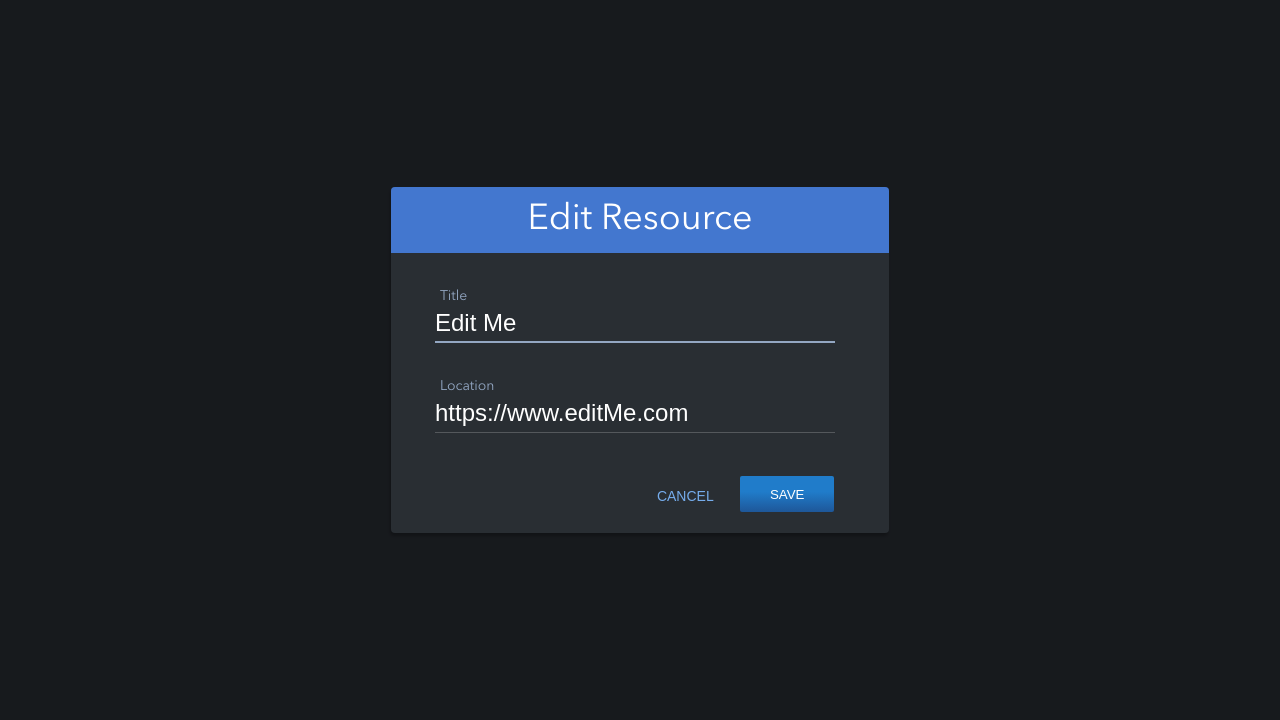
Test case: EditResourcePopup › should stop you from inputting an empty title and url
This screenshot has width=1280, height=720.
Step 1. Clear the field below "Title" → (635, 326), box [435, 308, 835, 343]
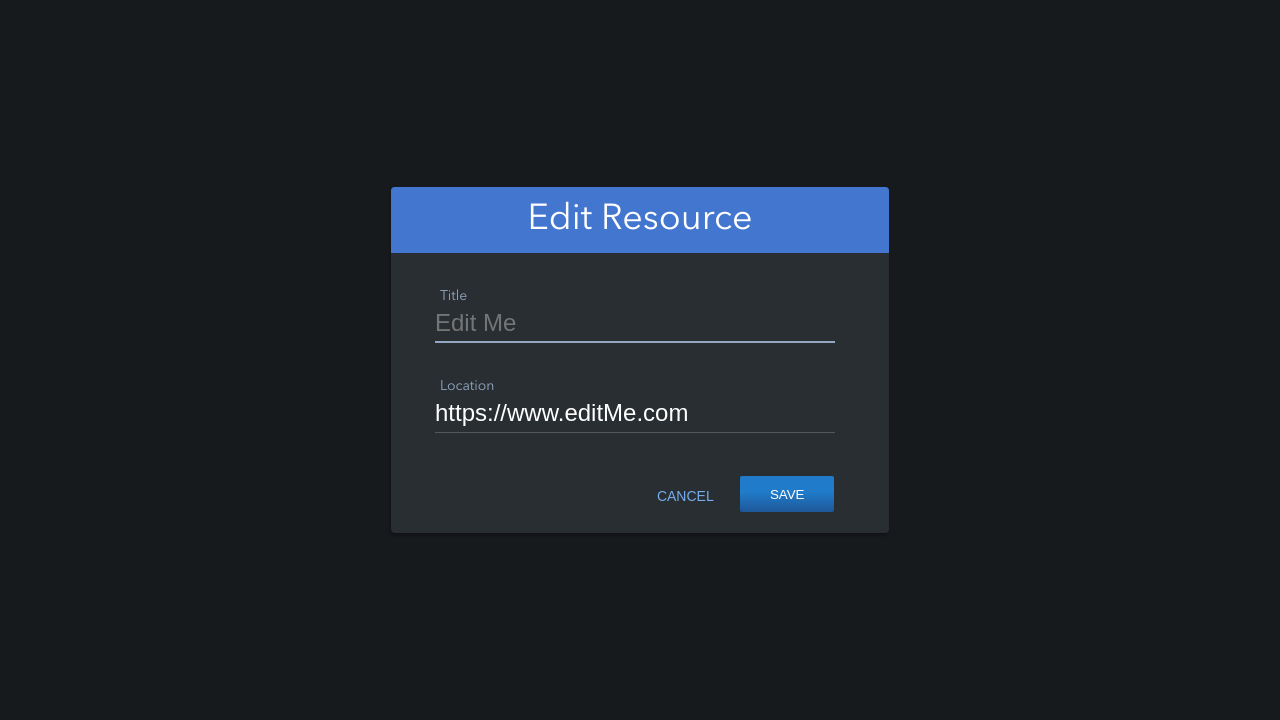
Step 2. Clear the 2nd field → (635, 416), box [435, 398, 835, 433]
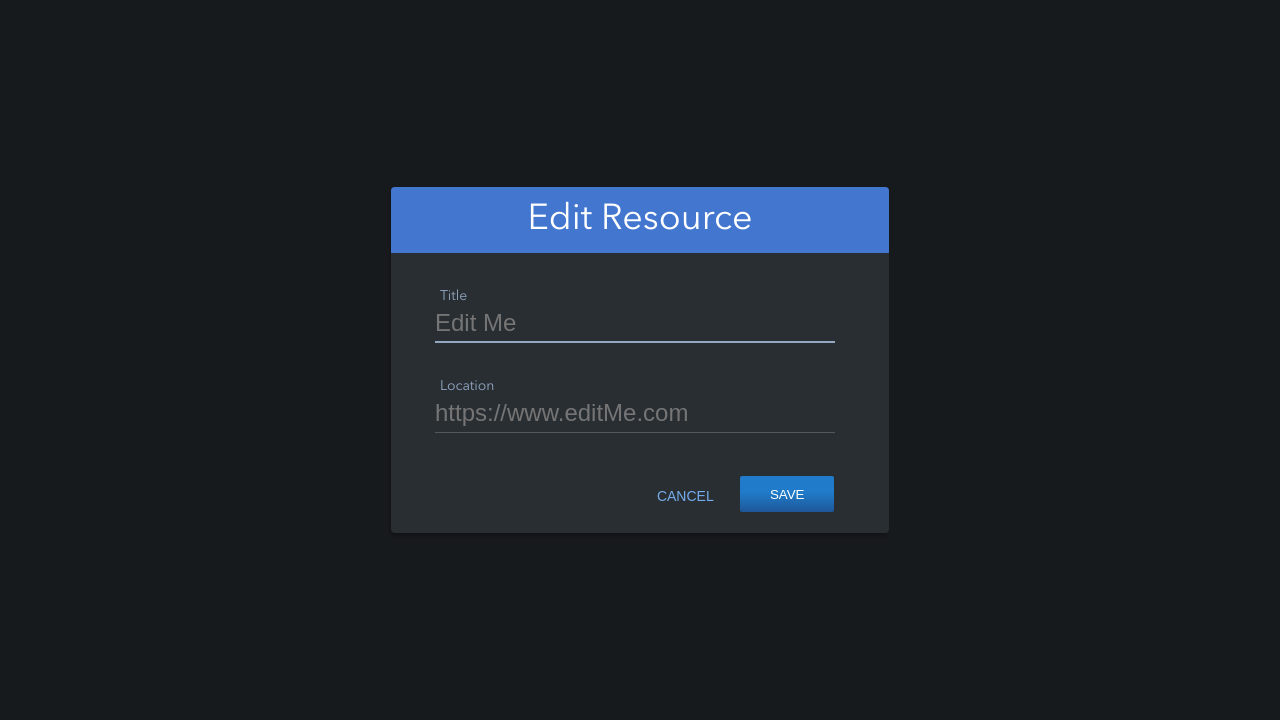
Step 3. Click the button with class "saveButton" → (787, 494), box [740, 476, 834, 512]
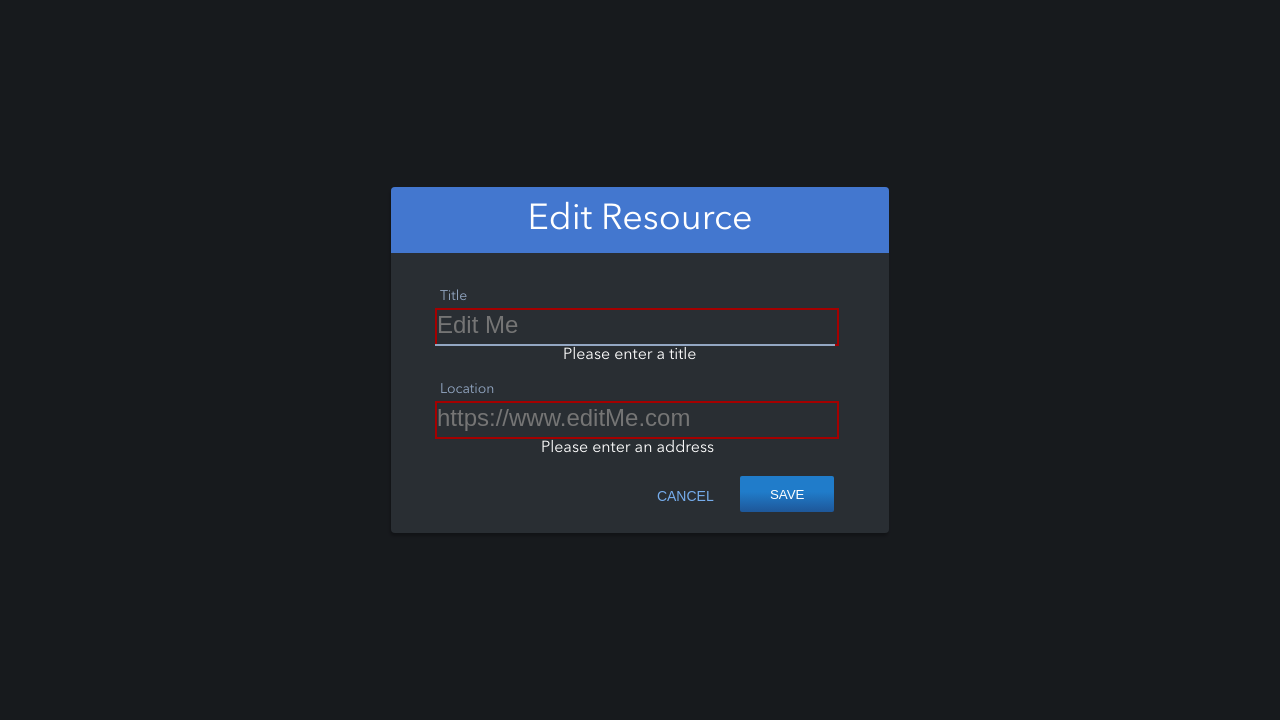
Check: the text with class "titleError" reads "Please enter a title", box [563, 347, 696, 363]
Check: the text with class "urlError" reads "Please enter an address", box [541, 440, 714, 456]
